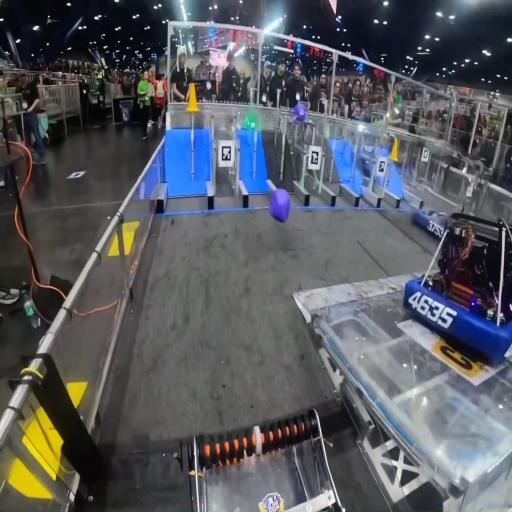robot: (402, 210, 512, 366), (412, 151, 492, 239)
